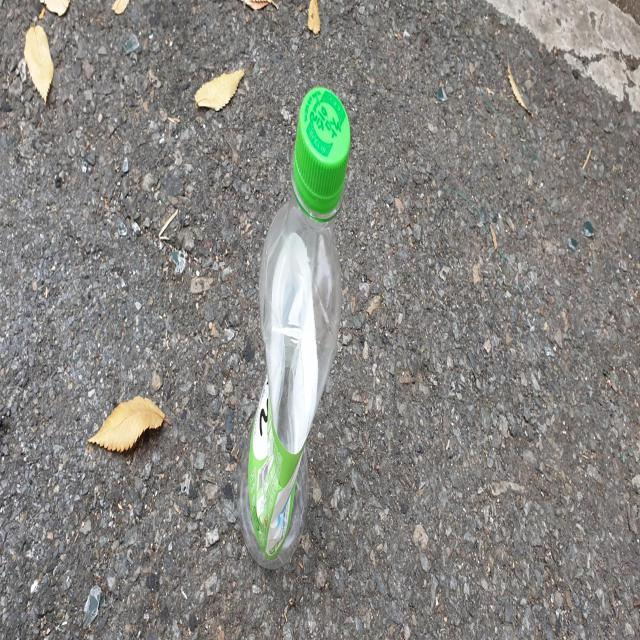plastic: (238, 85, 351, 568)
